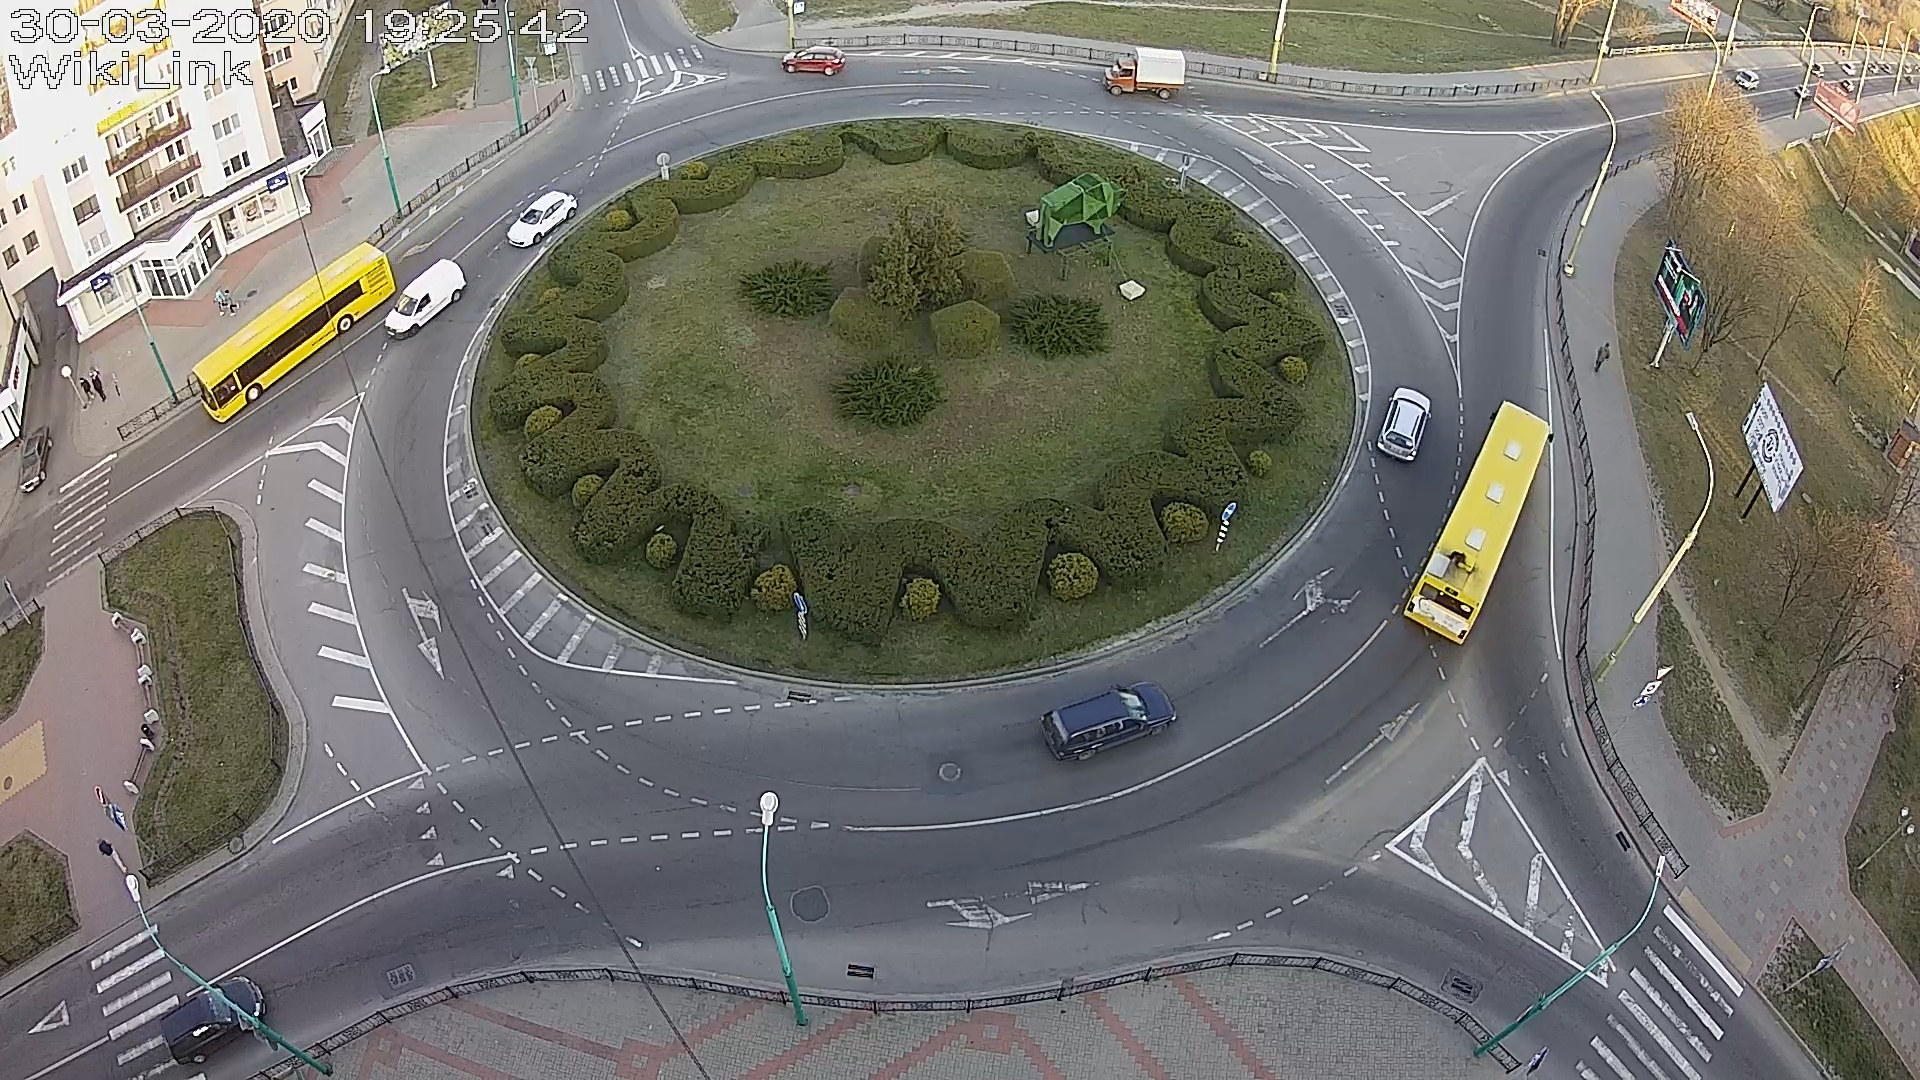bus: (186, 241, 397, 423), (1403, 398, 1555, 646)
car: (1040, 680, 1180, 761), (158, 975, 266, 1065), (384, 258, 467, 342), (1102, 46, 1185, 99), (1375, 386, 1432, 462), (506, 190, 578, 248), (782, 44, 847, 76)
